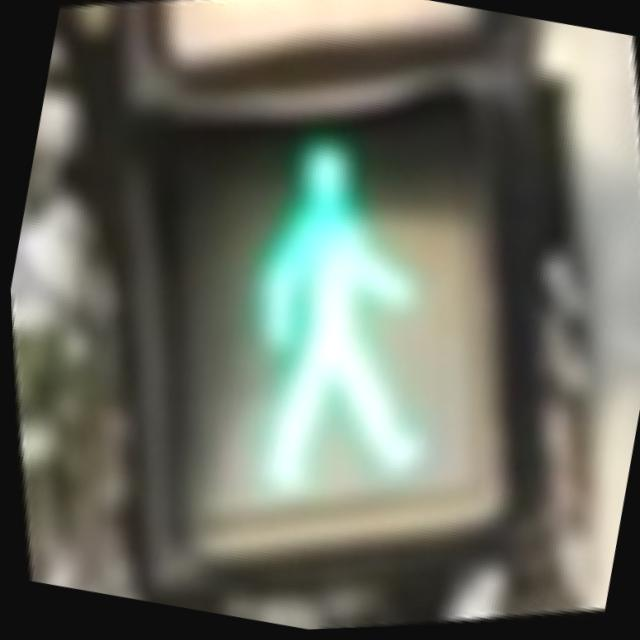green_light: (91, 28, 571, 588)
